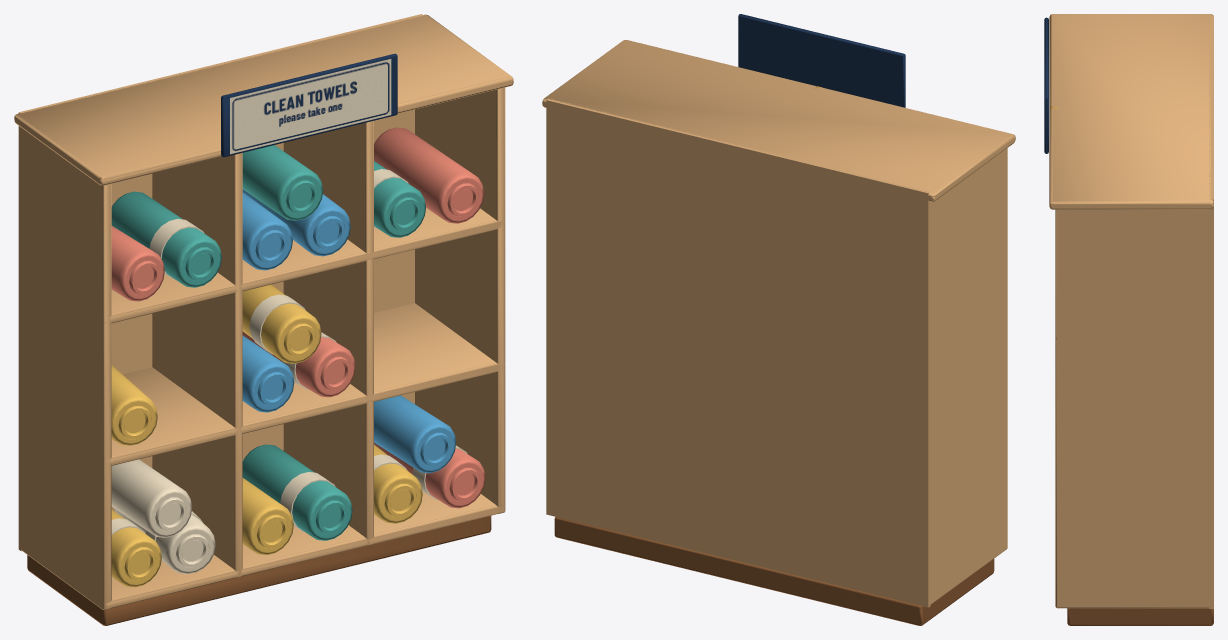
File: towel_cubbies.glb
3 renders of one model, left to right at view 1: azimuth 30°, elevation 25°; view 2: azimuth 150°, elevation 25°; view 3: azimuth 270°, elevation 25°, orthographic. The views are drawn at different scales.
Parts seen in each view (by area): view 1: TowelCubbiesBody; view 2: TowelCubbiesBody; view 3: TowelCubbiesBody.
Part boxes in pixels (<box>): TowelCubbiesBody: <box>14,14,513,625</box>; TowelCubbiesBody: <box>542,14,1015,625</box>; TowelCubbiesBody: <box>1044,14,1213,625</box>.
Bounding box in the file's own units: 1.13 × 1.34 × 0.4285.
Materials: 10 (1 with a texture image).
